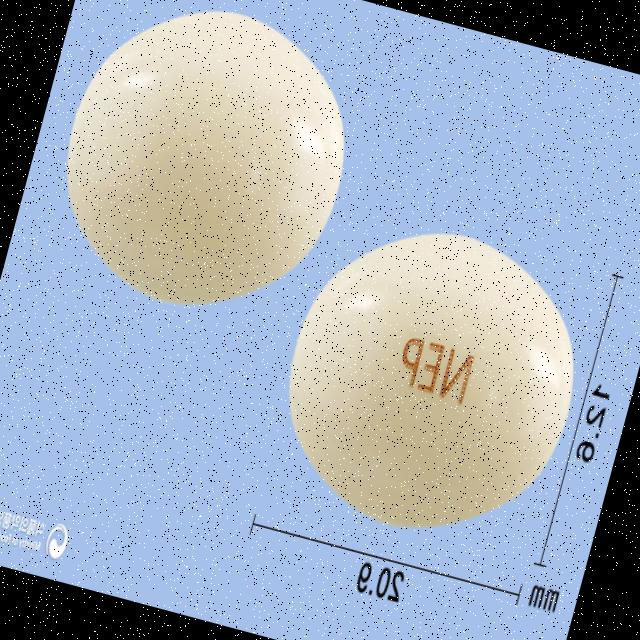Nepoxin Vaginal Soft Cap: (254, 196, 606, 562), (30, 0, 375, 340)
